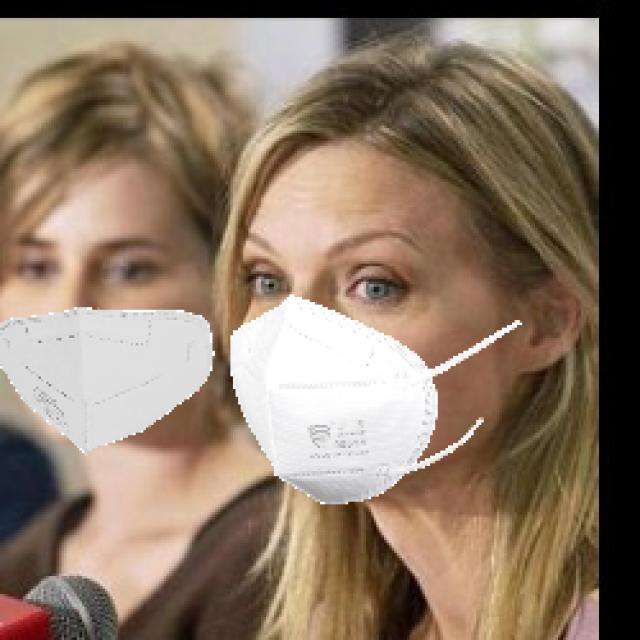mask: (226, 283, 550, 505), (1, 297, 222, 464)
